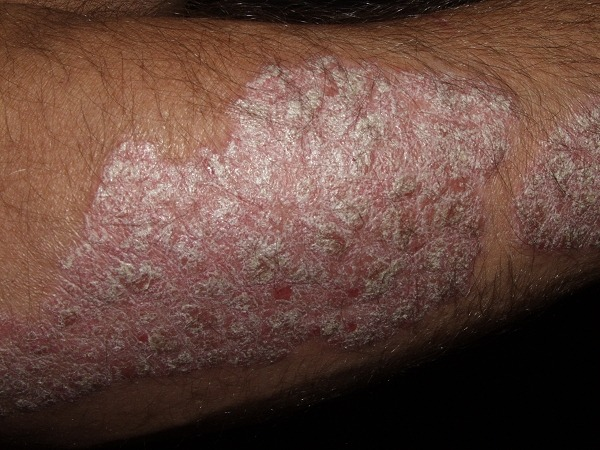Psoriasis: (0, 57, 528, 368), (518, 102, 600, 257)
